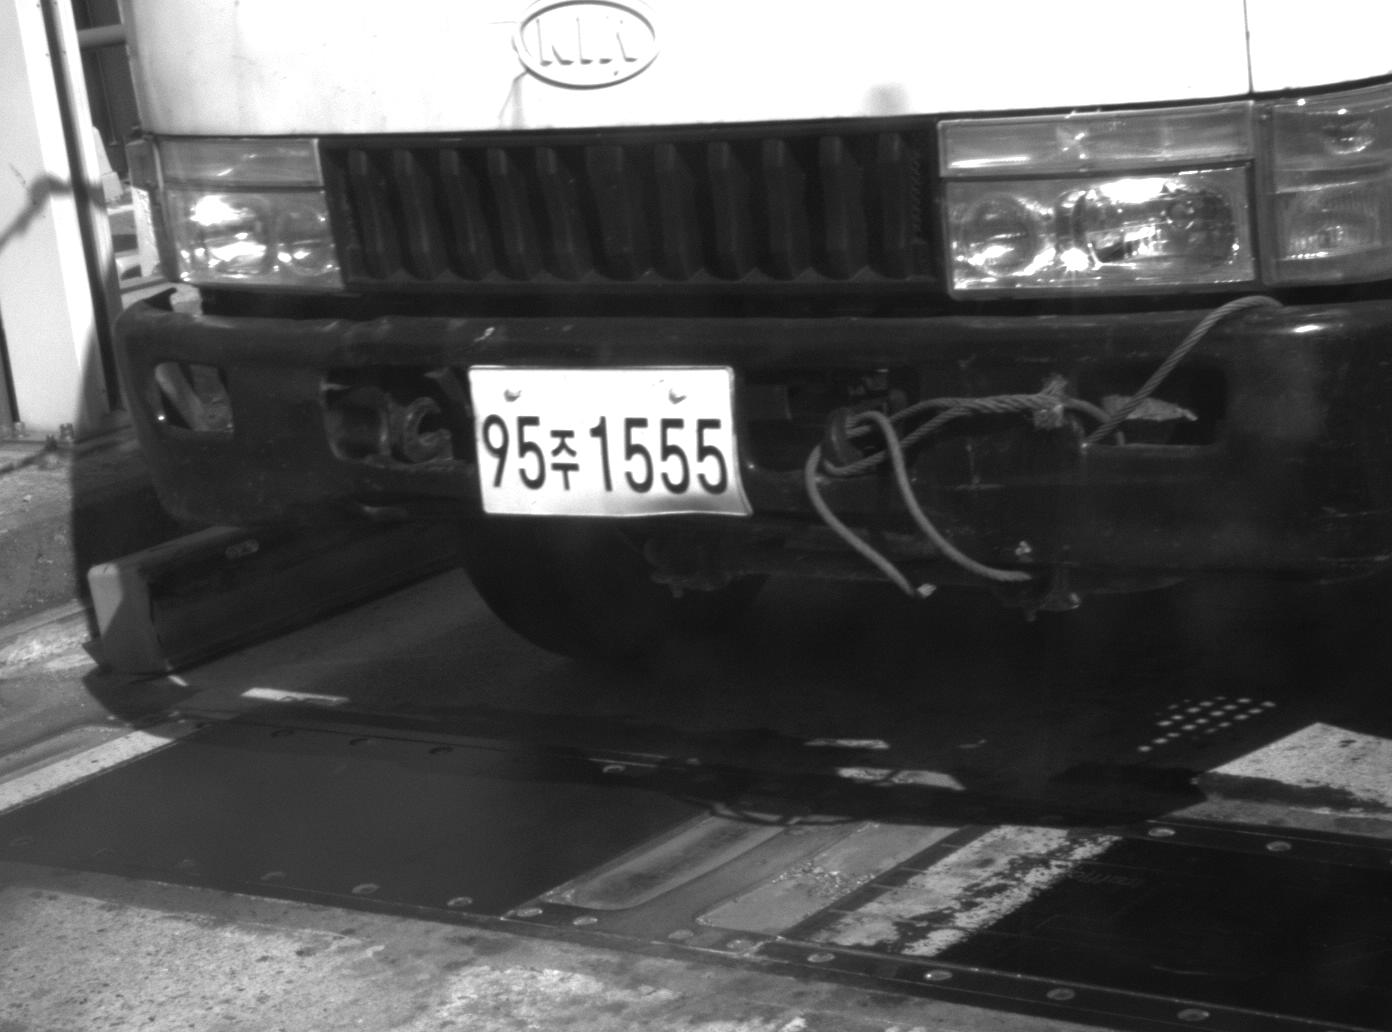car: (100, 1, 1389, 659)
plate: (464, 362, 755, 523)
